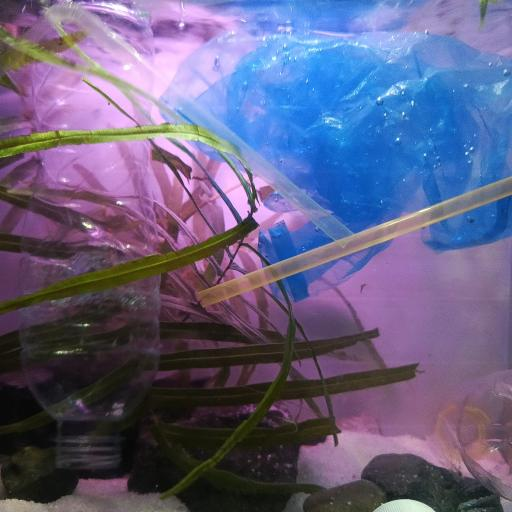plastic_bag: (155, 1, 512, 302)
plastic_bottle: (21, 0, 157, 466), (434, 364, 512, 501)
plastic_straw: (59, 0, 353, 236), (205, 173, 512, 307)
